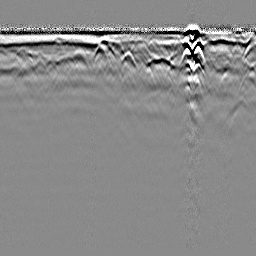cavity: (120, 48, 136, 70)
